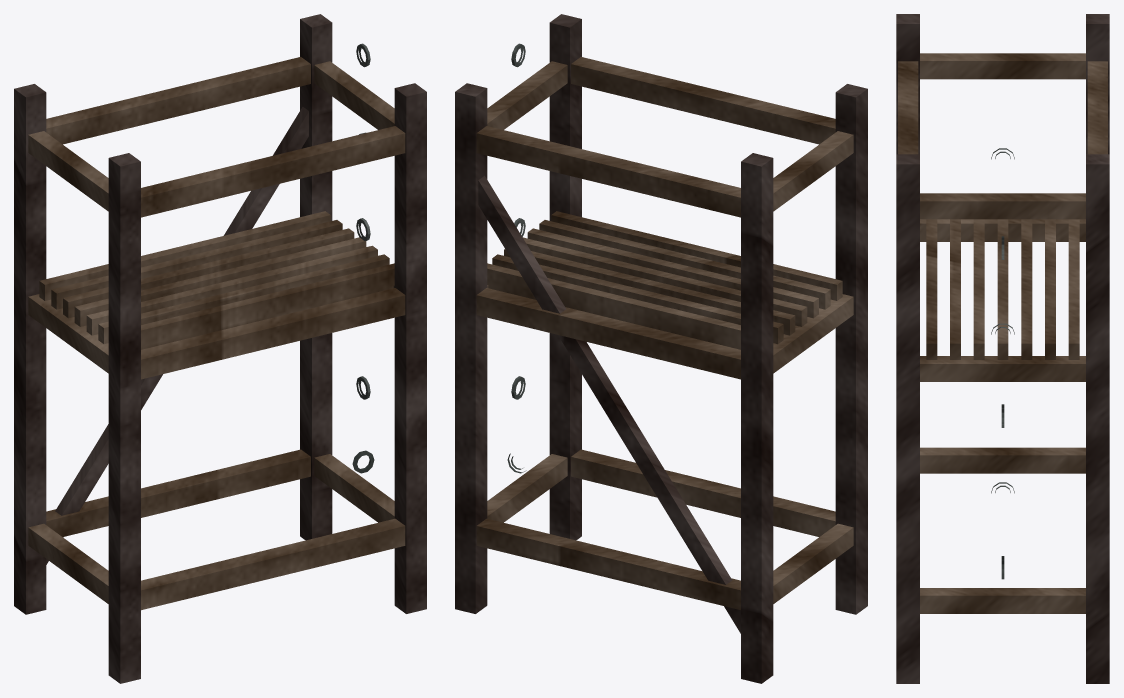
The model's file is 0444_scaffolding_19.glb.
The picture shows the model from 3 angles, left to right: view 1: azimuth 30°, elevation 25°; view 2: azimuth 150°, elevation 25°; view 3: azimuth 270°, elevation 25°; orthographic projection.
Parts seen in each view (by area): view 1: wood, wood_dark, iron; view 2: wood, wood_dark, iron; view 3: wood, wood_dark, iron.
Part boxes in pixels (bbox=[...]): wood: bbox=[28, 57, 405, 610]; wood_dark: bbox=[14, 14, 426, 683]; iron: bbox=[352, 43, 374, 473]; wood: bbox=[476, 57, 853, 610]; wood_dark: bbox=[455, 14, 867, 683]; iron: bbox=[507, 43, 526, 473]; wood: bbox=[898, 53, 1107, 613]; wood_dark: bbox=[896, 14, 1109, 683]; iron: bbox=[991, 148, 1014, 579].
Size of the model in its own units: 1.94 by 3.19 by 1.17.
3 materials, 3 textured.
